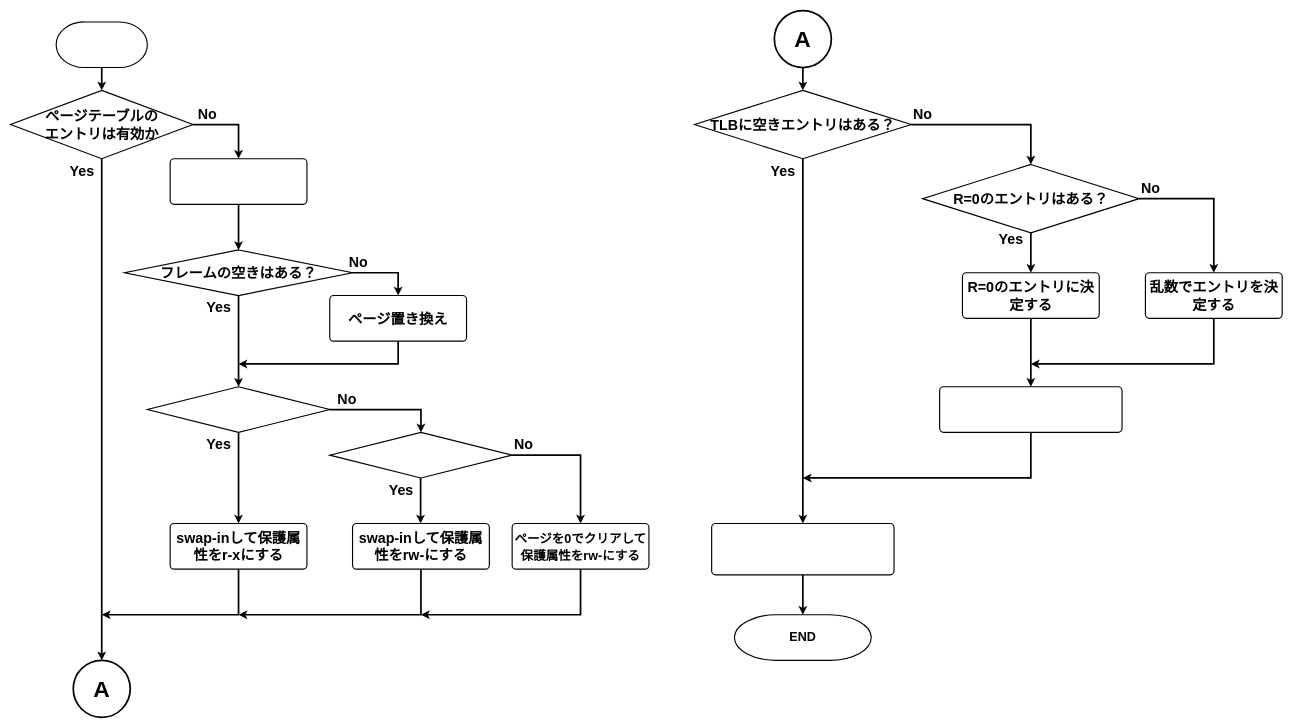
This 1292x728 diagram has some shape labels left out. The shapes that lost their labels are listed below. From the top down, each one's centre as x and y in pixels, then its label:
At (101,44): "TLBミス発生".
At (238,181): "ページにフレームを割り付け".
At (238,409): "セグメントはTEXT?".
At (1030,409): "TLBのエントリをページテーブルに書き戻す".
At (420,454): "セグメントはDATA?".
At (802,549): "TLBにページテーブルのエントリをコピーする".
